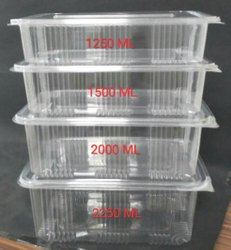PlasticBox: (6, 5, 226, 63)
